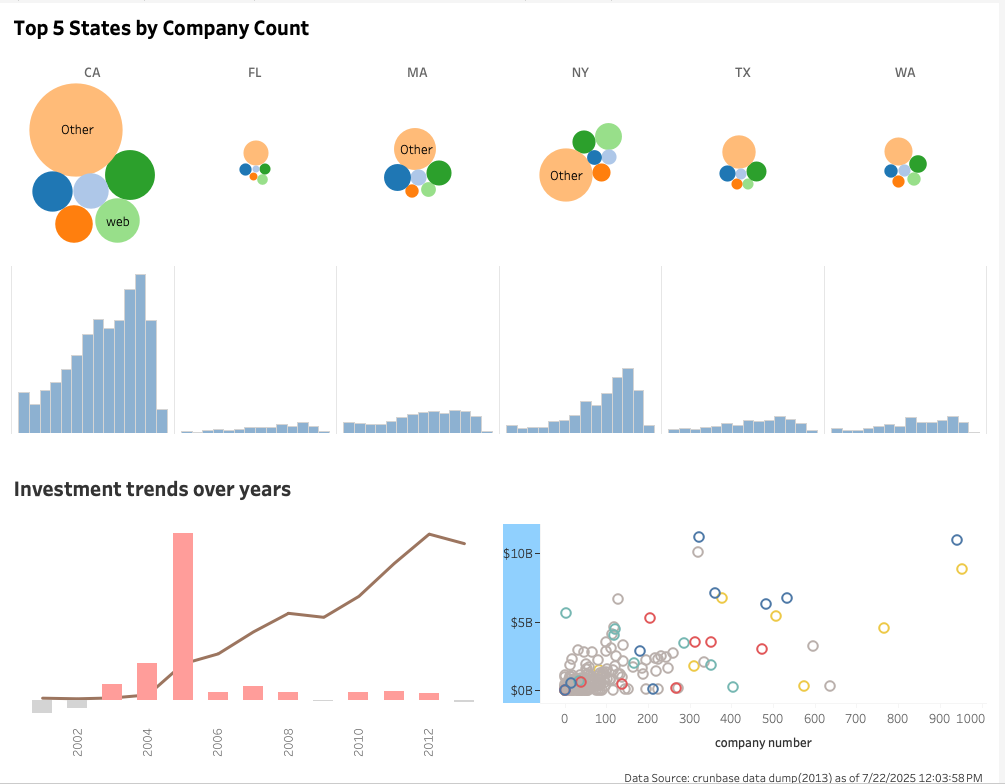

The page's visual inventory and layout, read from the dashboard file:
{"tool":"tableau","page":{"name":"Dashboard 1","canvas":[1000,800],"ordinal":0},"visuals":[{"type":"text","box":[8,8,984,32]},{"type":"worksheet","title":"by_category","mark":"Circle","cols":["state_code"],"box":[8,40,984,204]},{"type":"worksheet","title":"n_companies_by_year","mark":"Bar","rows":["Calculation_1988902219726073865"],"cols":["state_code","founding_date"],"box":[8,244,984,191]},{"type":"blank","box":[8,435,984,32]},{"type":"text","box":[8,467,984,35]},{"type":"worksheet","title":"investments","mark":"Automatic","rows":["funding_amount","funding_amount"],"cols":["funded_at"],"box":[8,502,492,257]},{"type":"worksheet","title":"funding_scatterplot","mark":"Automatic","rows":["funding_amount"],"cols":["Calculation_1988902219726073865"],"box":[500,502,492,257]},{"type":"worksheet","title":"footer","mark":"Automatic","box":[8,759,984,33]}]}

Visuals, with their boxes in screenshot pixels (x1, y1, x2, y2), scaled from the page's 1000x800 canvas onto the 1005x784 screenshot:
text: <region>8, 8, 997, 39</region>
"by_category" worksheet (Circle marks): <region>8, 39, 997, 239</region>
"n_companies_by_year" worksheet (Bar marks): <region>8, 239, 997, 426</region>
blank: <region>8, 426, 997, 458</region>
text: <region>8, 458, 997, 492</region>
"investments" worksheet: <region>8, 492, 502, 744</region>
"funding_scatterplot" worksheet: <region>502, 492, 997, 744</region>
"footer" worksheet: <region>8, 744, 997, 776</region>
